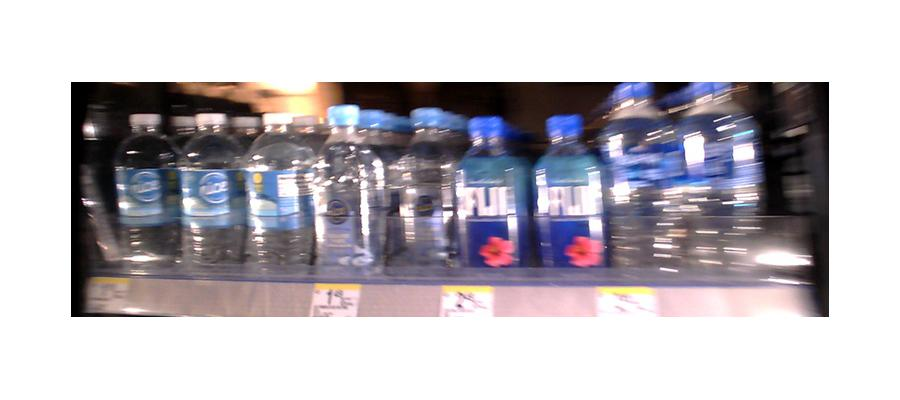bottle: (607, 86, 680, 269), (313, 105, 387, 273), (242, 116, 314, 273), (534, 112, 603, 274), (393, 112, 461, 275), (459, 116, 527, 274), (112, 118, 177, 278), (178, 112, 240, 269)
